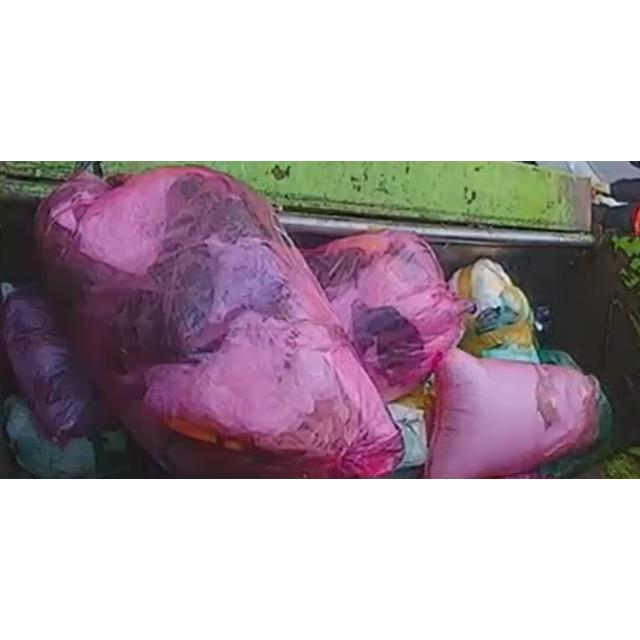general_trashbag: (4, 396, 129, 479), (449, 258, 539, 363)
other_trashbag: (35, 167, 402, 477), (304, 231, 471, 402), (428, 350, 599, 478), (4, 286, 98, 447)
